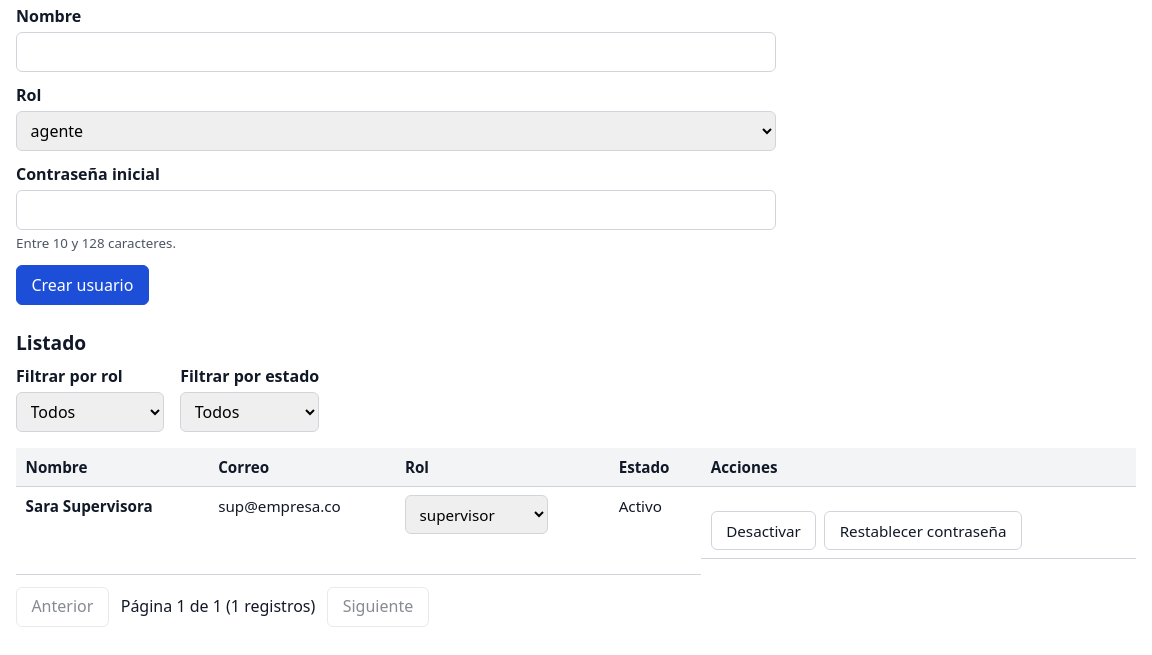
Usuarios (solo administrador) › restablecer contraseña valida longitud y envía {password}
The image size is (1152, 655).
(page scrolled)
Click the button "Restablecer contraseña".
click(923, 530)  # box [824,511,1022,550]
(page scrolled)
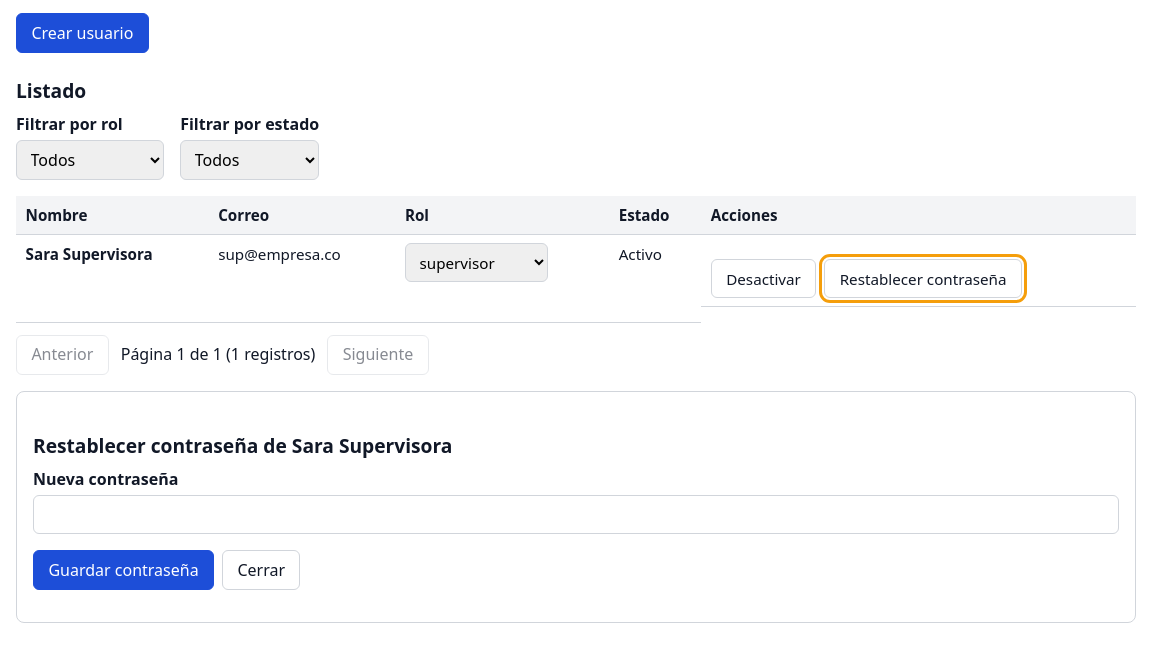
Type "corta" into the password field labelled "Nueva contraseña".
click(576, 515); type("corta")  # box [33,495,1119,534]
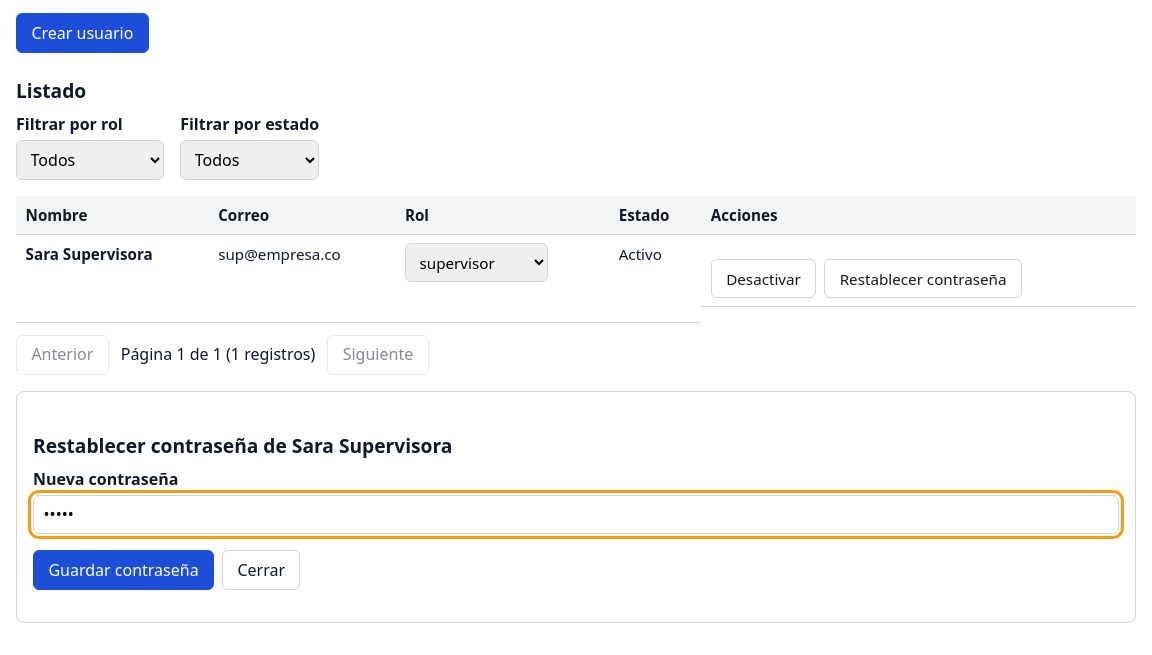
Click the button "Guardar contraseña".
click(124, 570)  # box [33,550,214,590]
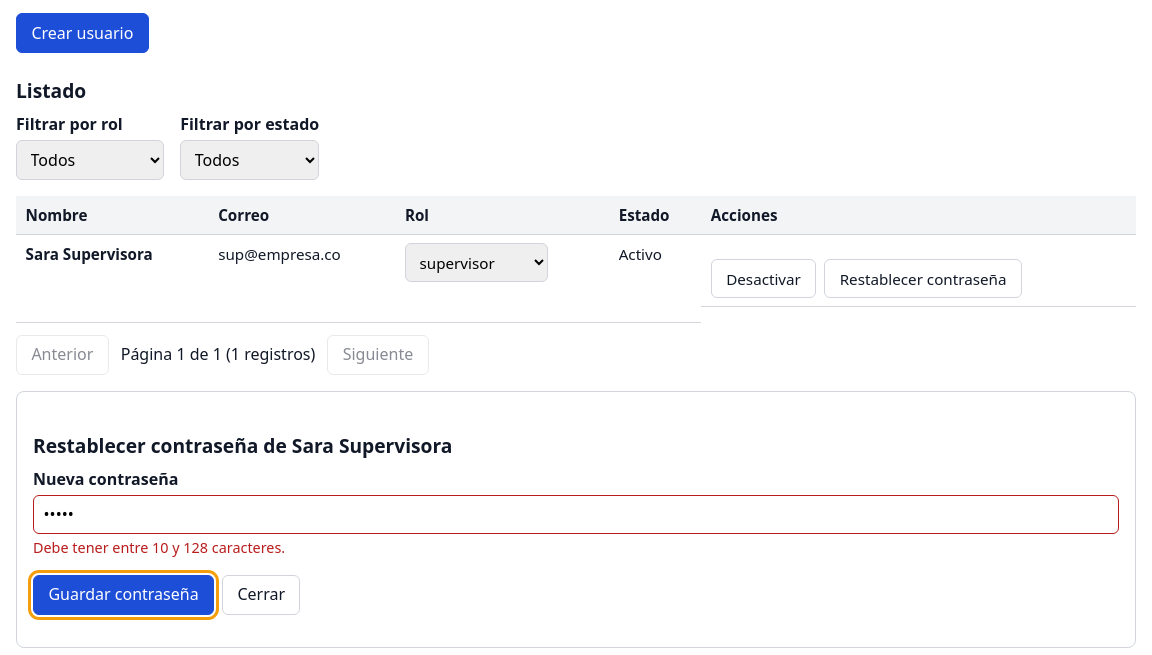
Now the text "Debe tener entre 10 y 128 caracteres." is shown, box [33,538,285,557]
Type "NuevaClave12345" into the password field labelled "Nueva contraseña".
click(576, 515); type("NuevaClave12345")  # box [33,495,1119,534]
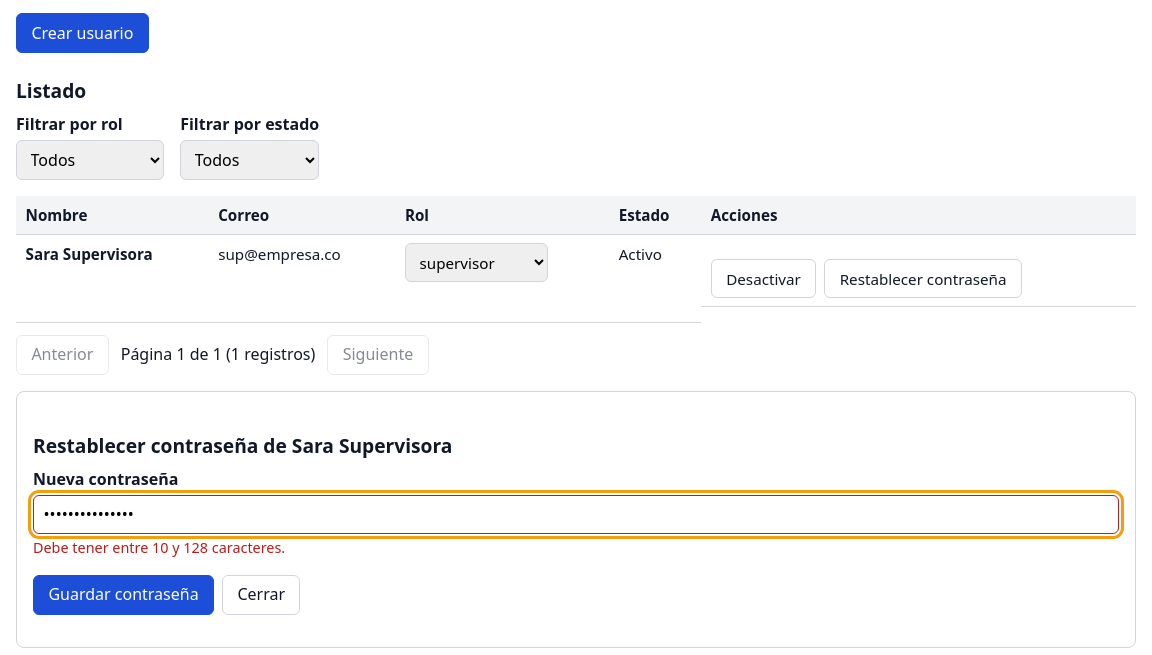
Click the button "Guardar contraseña".
click(124, 595)  # box [33,575,214,615]
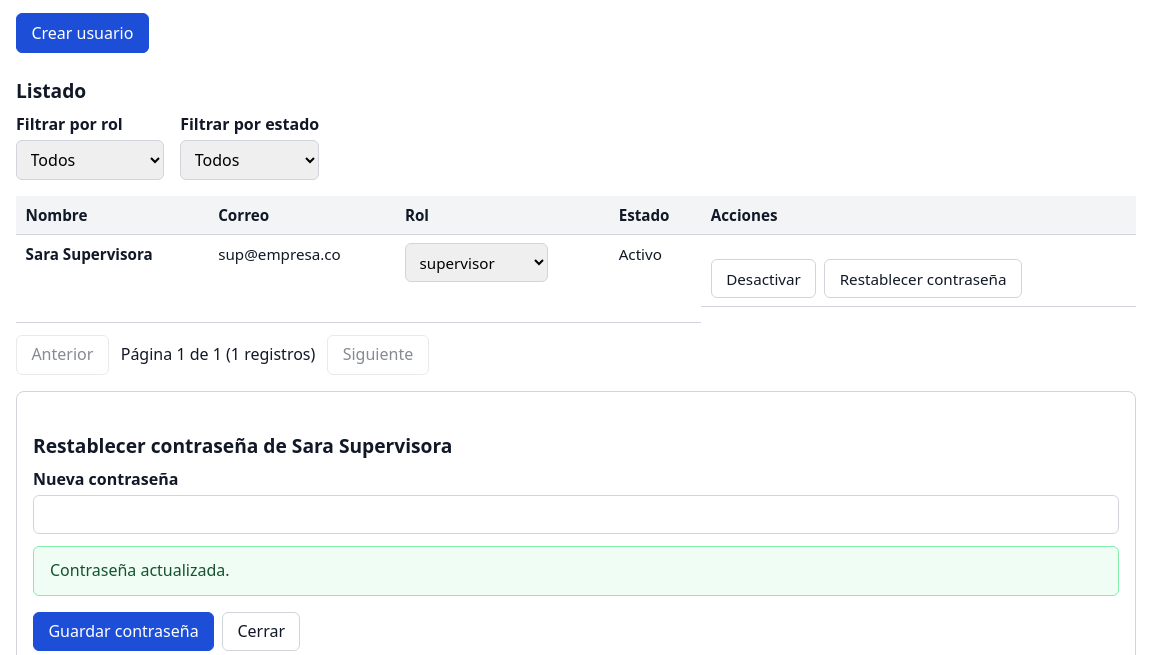
Now the text "Contraseña actualizada." is shown, box [33,546,1119,596]
